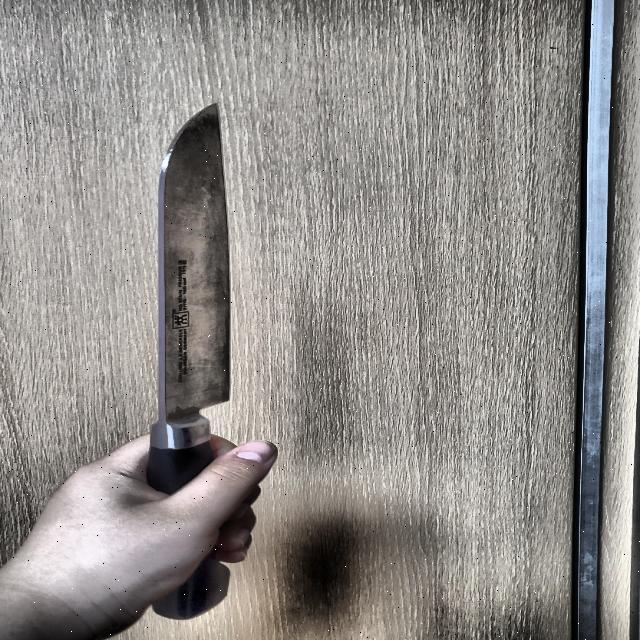knife: (148, 95, 245, 620)
